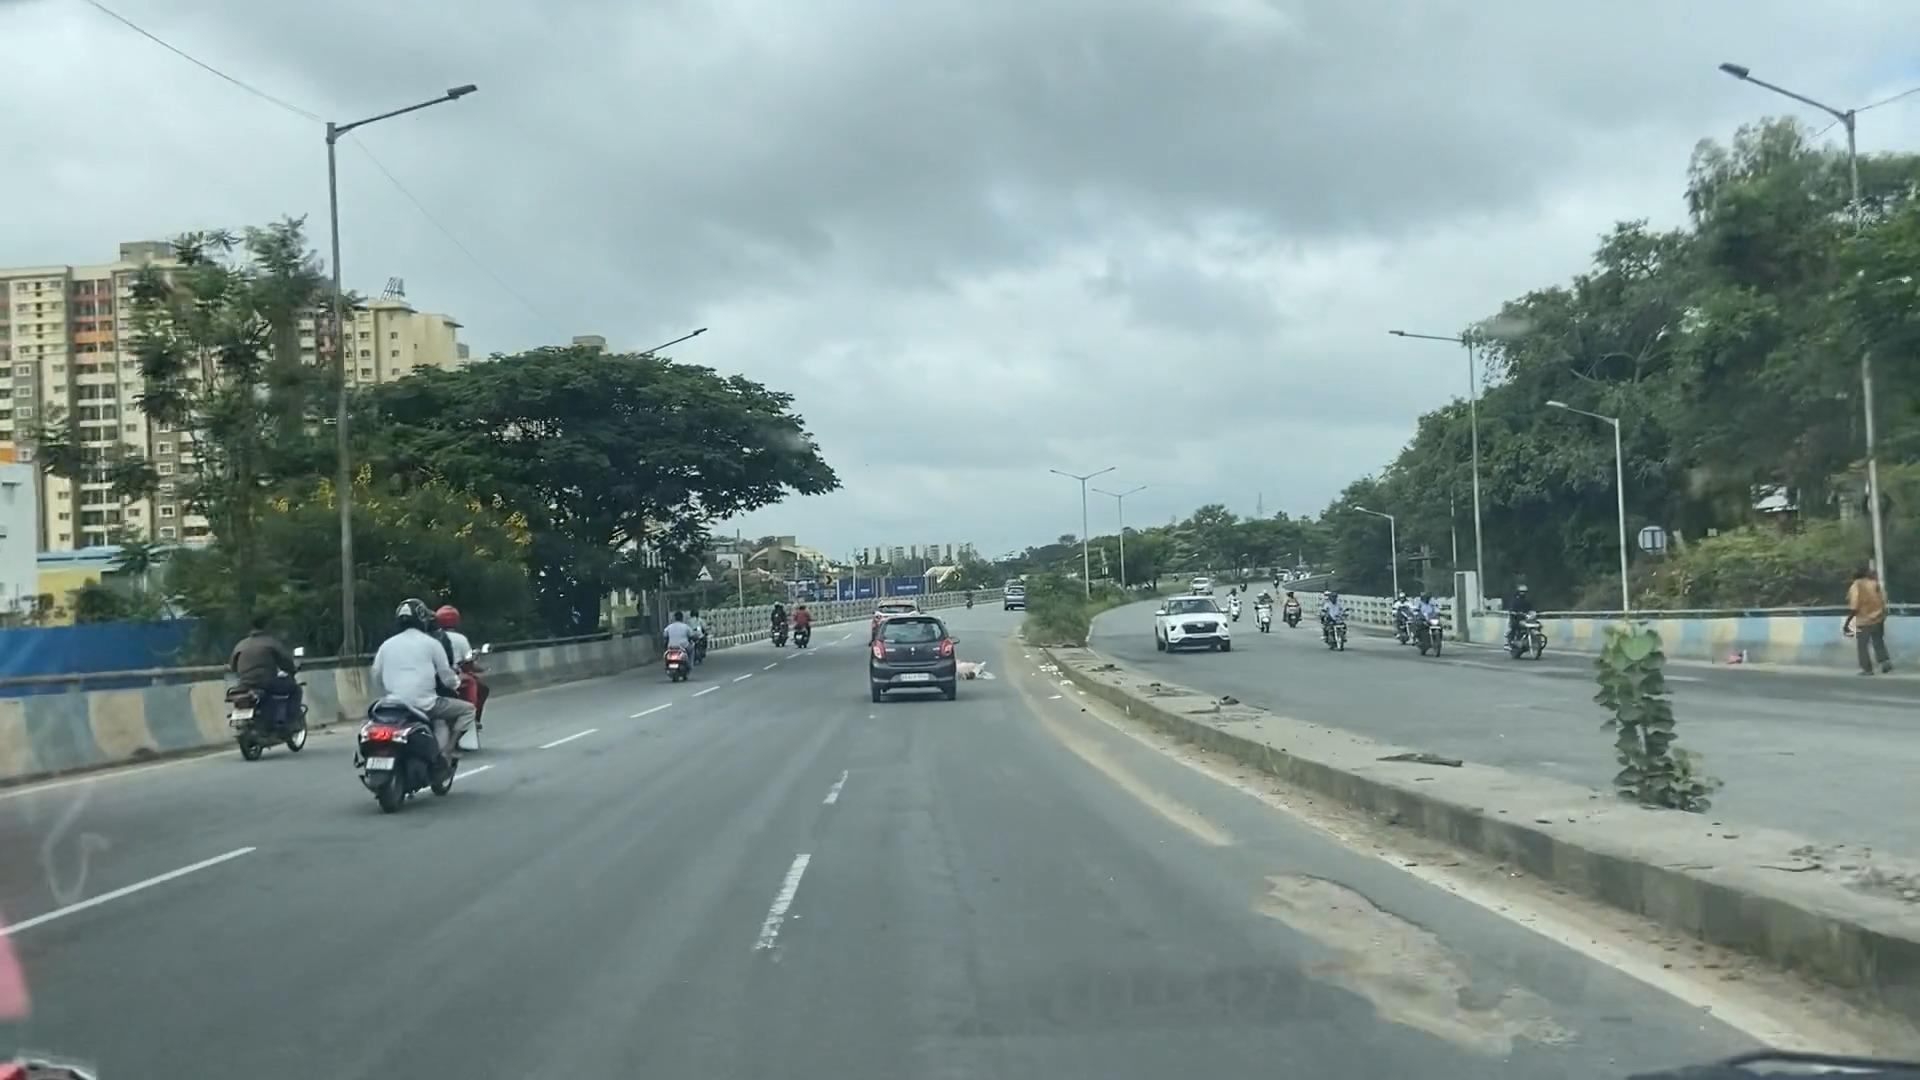LMV: (367, 603, 451, 771), (236, 626, 302, 750), (876, 616, 945, 698), (659, 611, 691, 676)
RoadDamages: (1255, 858, 1555, 1059), (1077, 750, 1224, 847)
